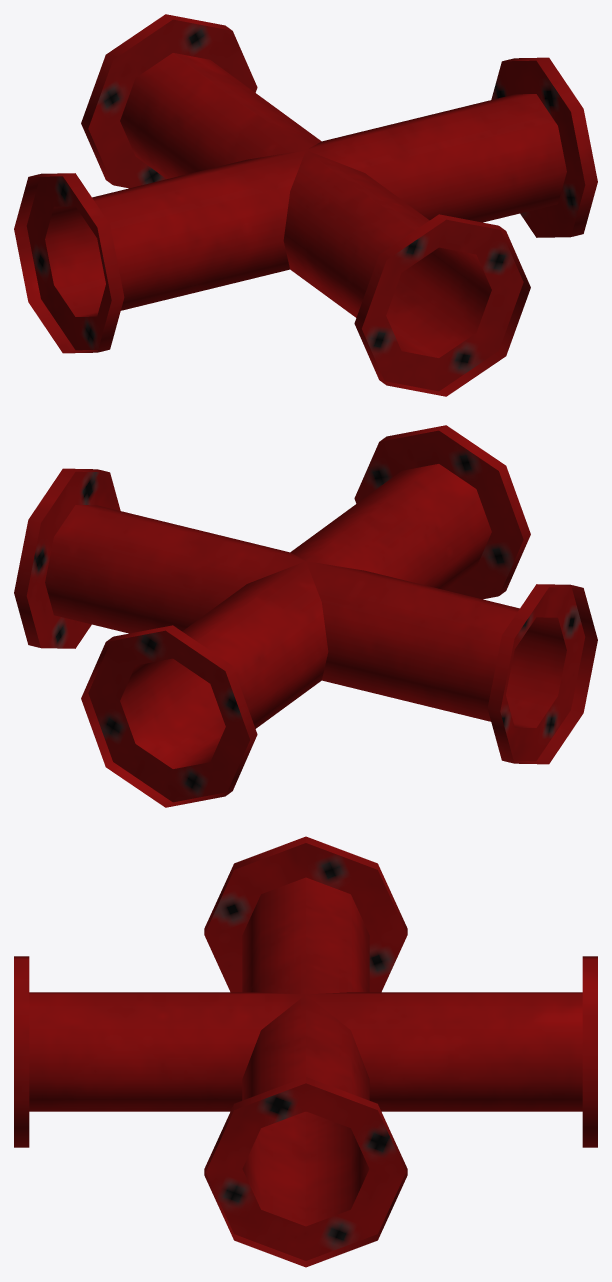
The model's file is PipeSmall_X.FBX.
The picture shows the model from 3 angles, top to bottom: view 1: azimuth 30°, elevation 25°; view 2: azimuth 150°, elevation 25°; view 3: azimuth 270°, elevation 25°; orthographic projection. The views are drawn at different scales.
Parts seen in each view (by area): view 1: PipeSmall_X; view 2: PipeSmall_X; view 3: PipeSmall_X.
Part boxes in pixels (x1,y1,x2,y2): PipeSmall_X: [14, 14, 597, 396]; PipeSmall_X: [14, 425, 597, 807]; PipeSmall_X: [14, 836, 597, 1267].
Bounding box in the file's own units: 9.05 × 3.15 × 9.05.
